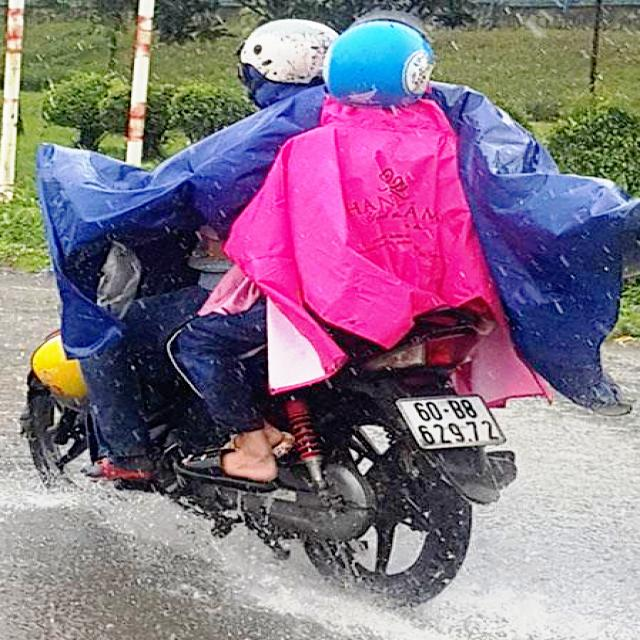license_plate: (398, 394, 509, 451)
